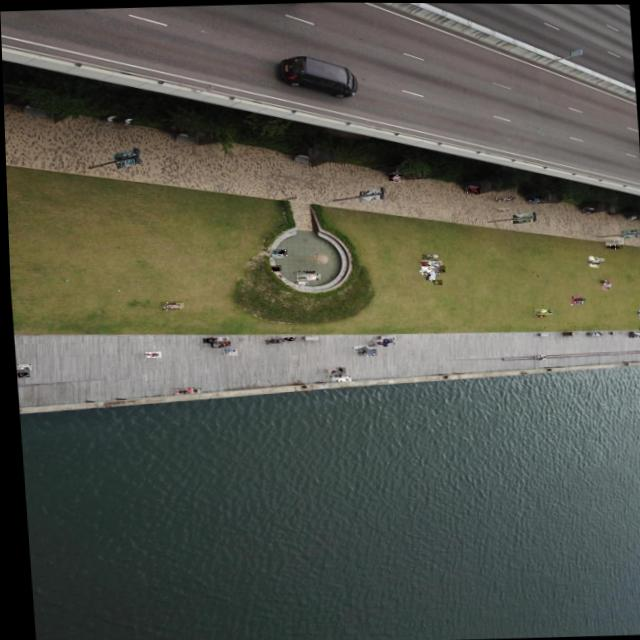Person: (170, 386, 198, 395), (157, 300, 178, 310), (353, 347, 373, 356), (293, 273, 318, 280), (368, 337, 390, 344), (324, 365, 340, 374), (602, 236, 620, 244), (328, 374, 347, 381), (530, 307, 549, 314), (350, 344, 368, 351), (364, 340, 384, 346), (141, 351, 157, 358), (274, 336, 292, 342), (494, 195, 512, 201), (12, 364, 27, 371), (12, 369, 25, 377), (292, 269, 312, 274), (219, 348, 233, 355), (270, 248, 284, 255), (425, 260, 439, 267), (198, 337, 214, 343), (461, 187, 477, 193), (602, 243, 620, 248), (385, 174, 400, 180), (431, 264, 442, 272), (206, 341, 219, 347), (391, 175, 402, 182), (166, 302, 180, 307), (216, 340, 227, 346), (418, 259, 429, 265), (586, 330, 597, 336), (626, 331, 639, 336), (268, 265, 278, 271), (495, 207, 506, 212), (531, 354, 542, 359), (332, 367, 341, 373), (429, 279, 439, 284), (269, 254, 280, 258), (295, 281, 305, 285), (419, 266, 427, 271), (210, 337, 223, 340), (591, 257, 601, 260), (529, 314, 543, 316), (588, 260, 596, 263)
